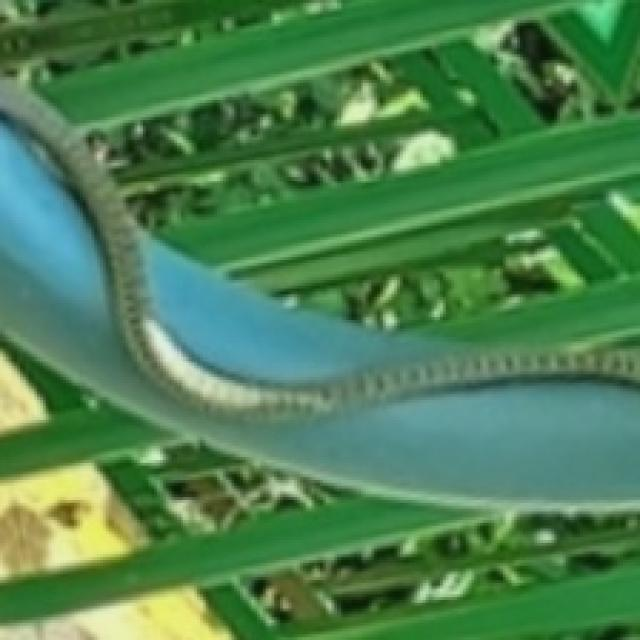paradise tree snake: (0, 0, 637, 497), (0, 80, 637, 497)
